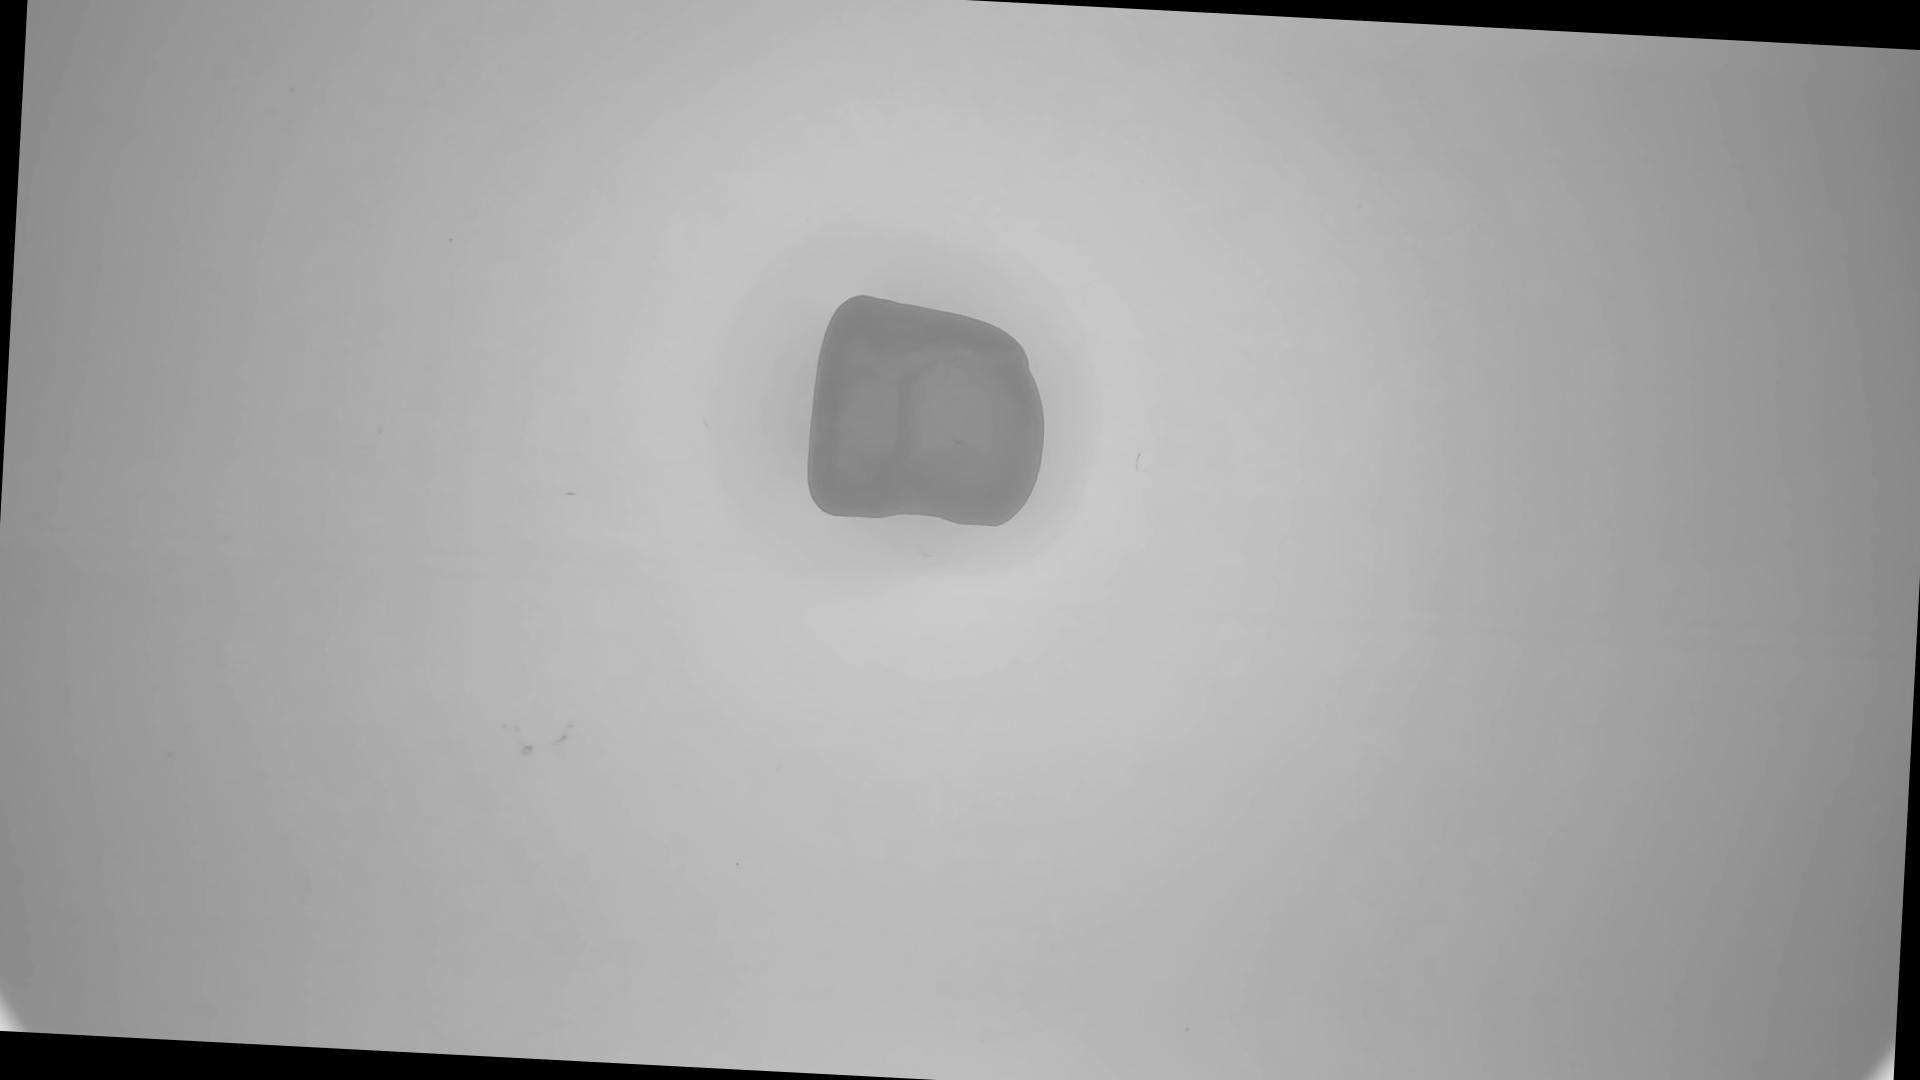abnormal: (806, 291, 1055, 534)
